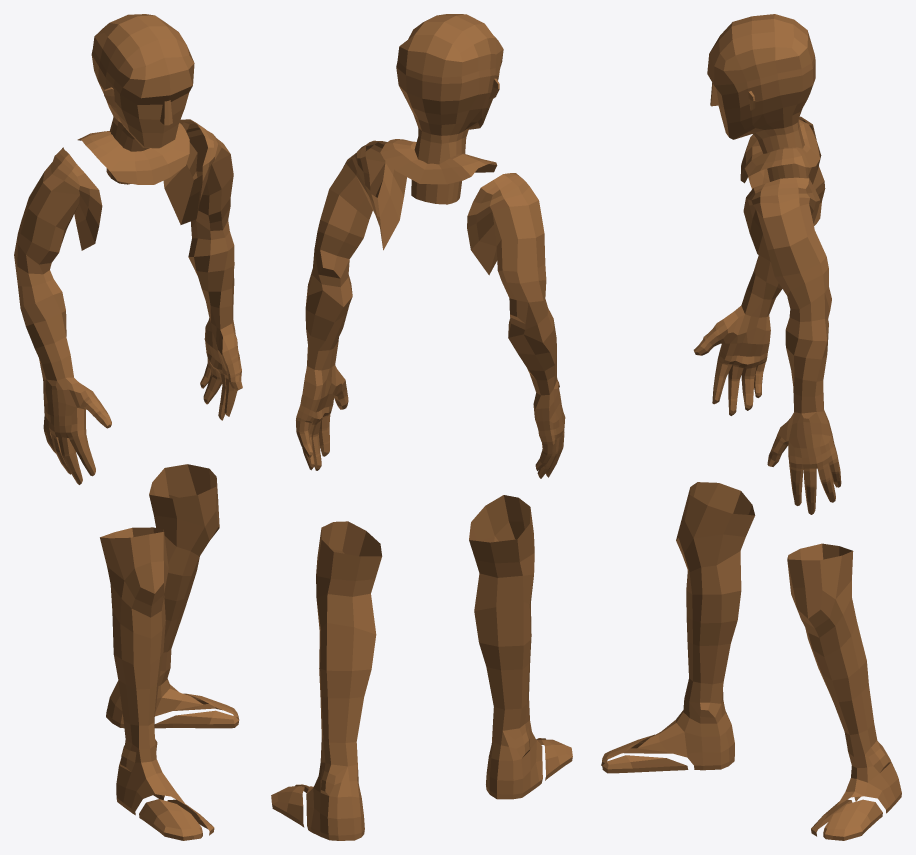
Rendered from Skin_004.obj.
3 renders of one model, left to right at view 1: azimuth 30°, elevation 25°; view 2: azimuth 150°, elevation 25°; view 3: azimuth 270°, elevation 25°, orthographic. The views are drawn at different scales.
Bounding box in the file's own units: 0.5864 × 1.76 × 0.6309.
